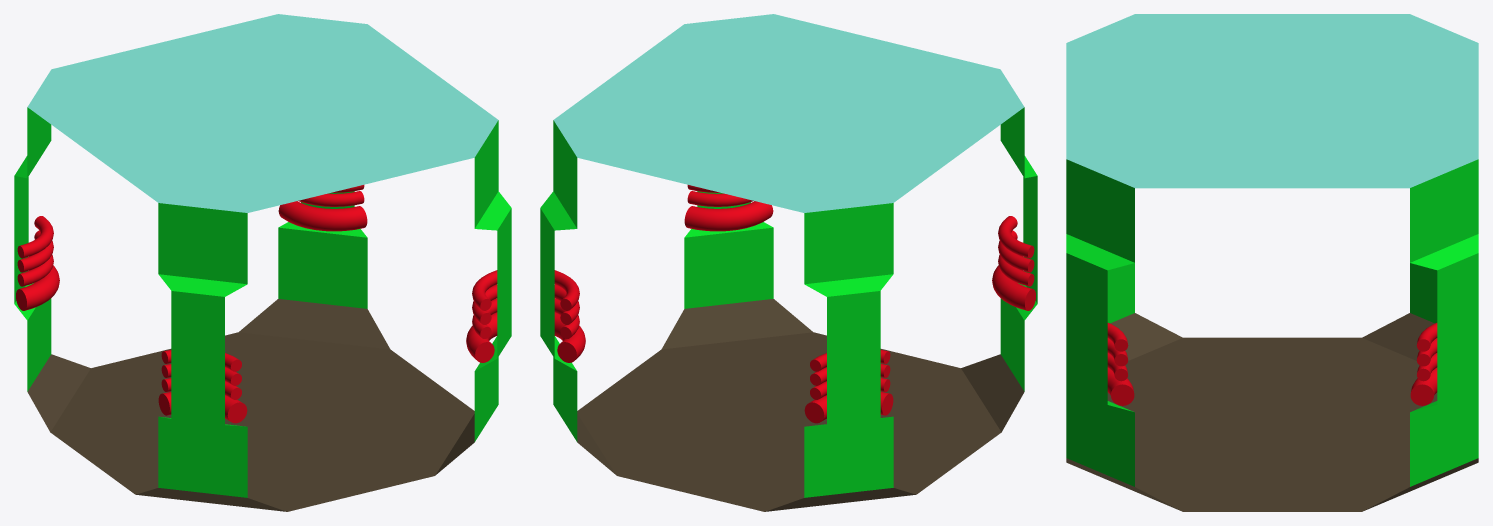
File: Cross_Roads.fbx
3 views of the same model, side by side, from view 1: azimuth 30°, elevation 25°; view 2: azimuth 150°, elevation 25°; view 3: azimuth 270°, elevation 25° (orthographic). The views are drawn at different scales.
Visible parts, largest first — view 1: Cross_Roads, Cylinder.007; view 2: Cross_Roads, Cylinder.007; view 3: Cross_Roads, Cylinder.007.
Boxes of the visible parts, box(x1,y1,x2,y2) form: Cross_Roads: box(14, 14, 511, 511); Cylinder.007: box(16, 185, 497, 423); Cross_Roads: box(540, 14, 1037, 511); Cylinder.007: box(554, 185, 1035, 423); Cross_Roads: box(1066, 14, 1478, 511); Cylinder.007: box(1107, 323, 1437, 405).
Bounding box in the file's own units: 3 × 2.6 × 3.
